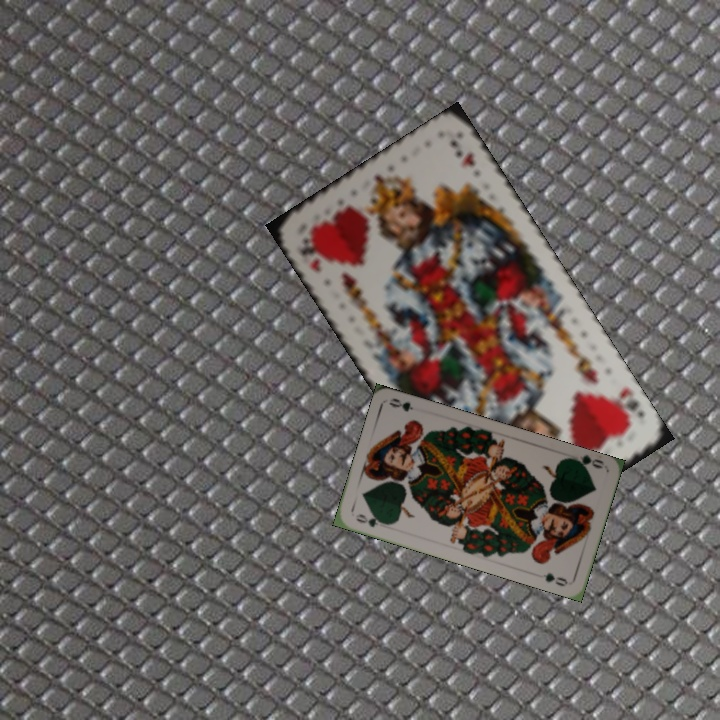GO: (566, 451, 607, 473), (351, 510, 391, 530)
HK: (614, 383, 647, 430), (292, 235, 324, 275)
